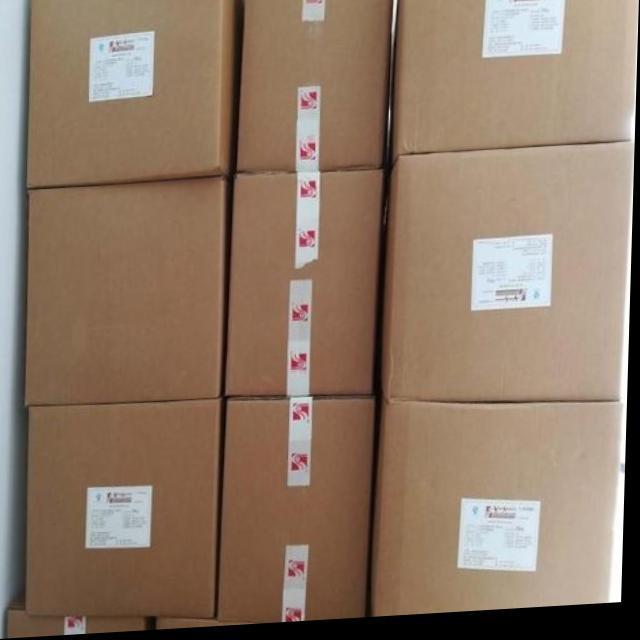box: (384, 151, 636, 406), (374, 404, 626, 621), (25, 177, 229, 408), (28, 401, 222, 621), (390, 0, 639, 171), (26, 0, 235, 188), (227, 173, 383, 400), (221, 400, 378, 625), (238, 0, 393, 174), (9, 592, 147, 638)
